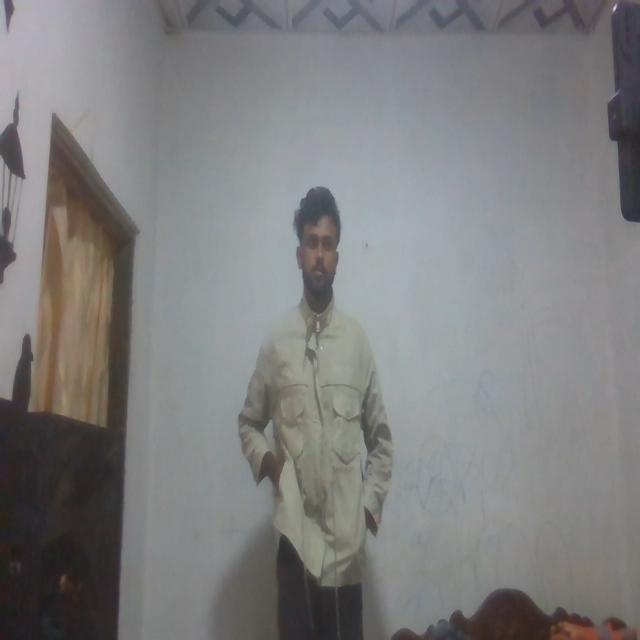Jacket_Wearer: (246, 285, 390, 575)
Person: (233, 200, 393, 640)
